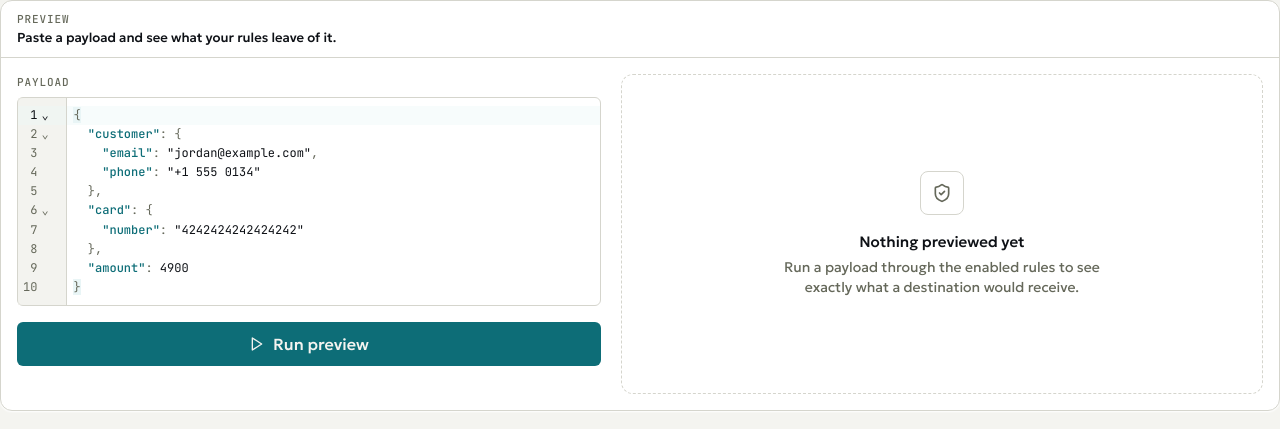
Scenario: PiiPreview › reports a failed preview as a failure
The width and height of the screenshot is (1280, 429).
Click the button "Run preview" at (309, 344), box [17,322,601,366]
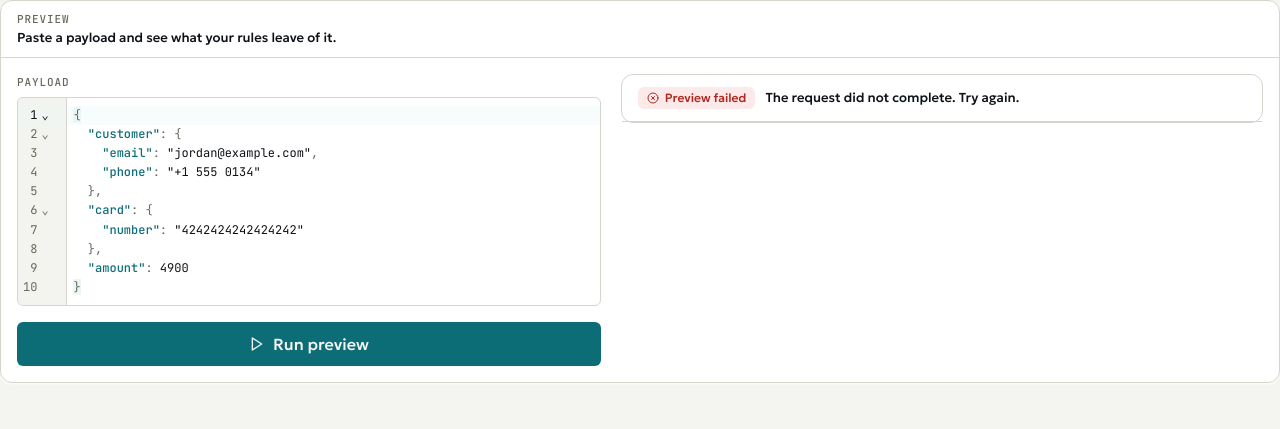
Expected: the text "Preview failed" is shown, [638,87,755,109]
